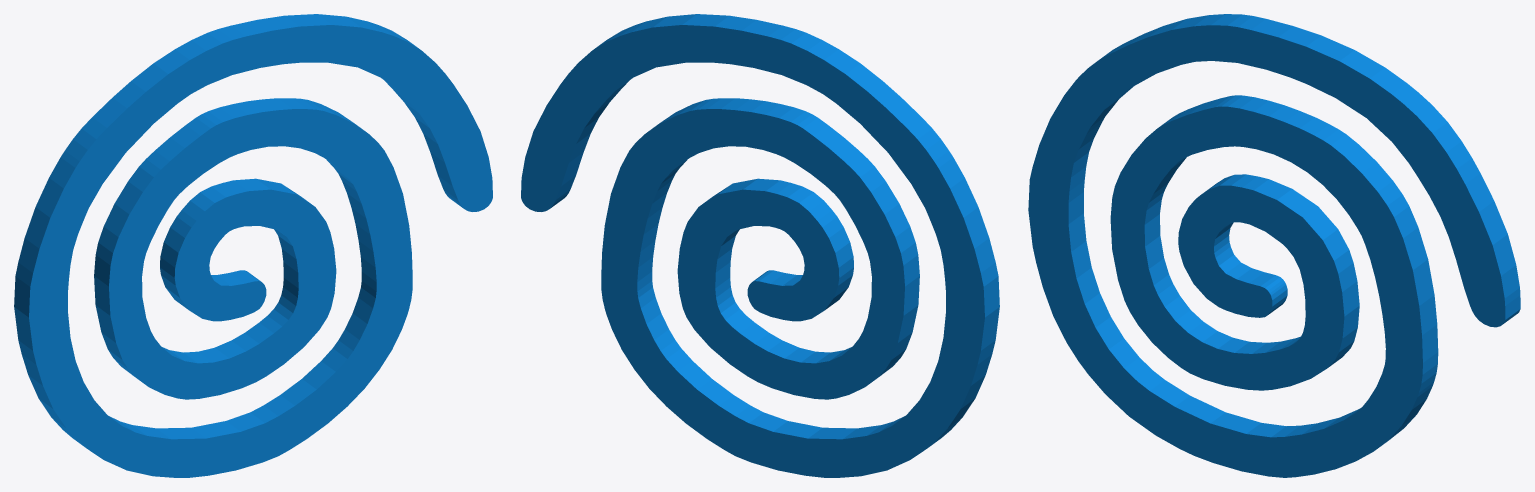
File: swirl.gltf
3 renders of one model, left to right at view 1: azimuth 30°, elevation 25°; view 2: azimuth 150°, elevation 25°; view 3: azimuth 330°, elevation 25°, orthographic. The views are drawn at different scales.
Visible parts, largest first — view 1: Object_2; view 2: Object_2; view 3: Object_2.
Part boxes in pixels (x1,y1,x2,y2): Object_2: [14, 14, 492, 477]; Object_2: [521, 14, 999, 477]; Object_2: [1028, 14, 1520, 477].
Bounding box in the file's own units: 18 × 16 × 1.
